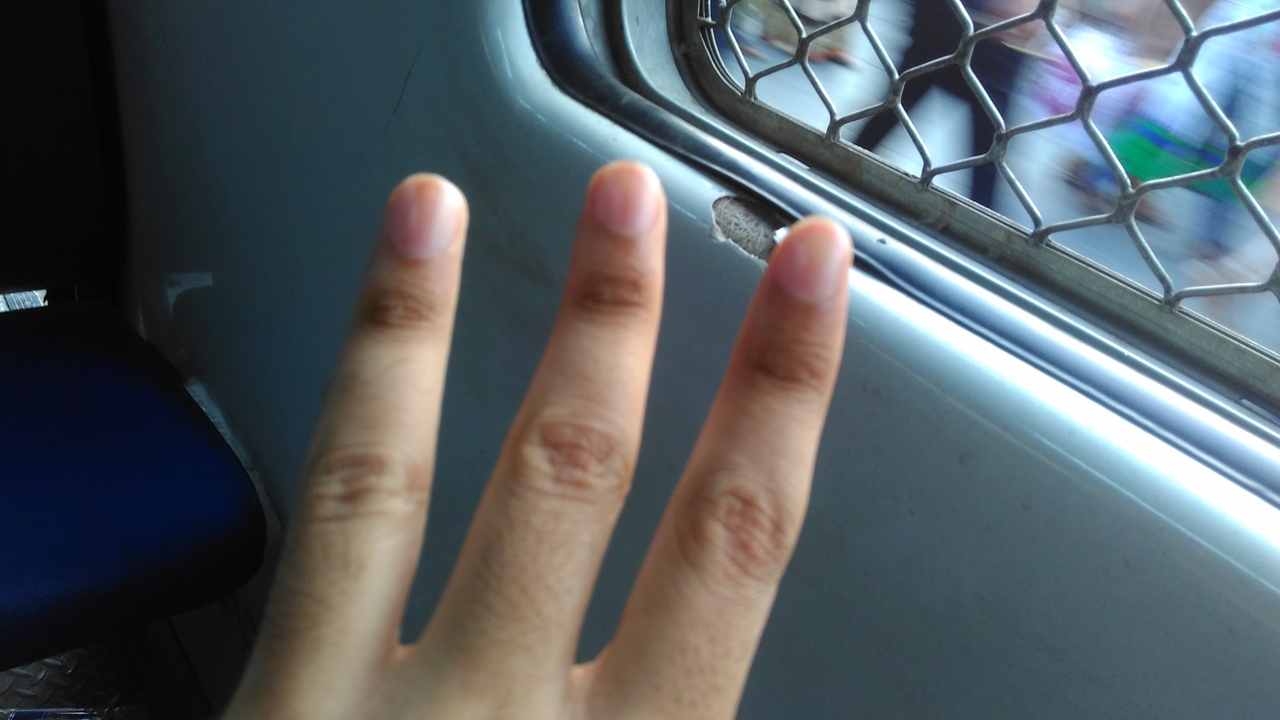fingertip: (370, 168, 472, 250), (770, 208, 860, 294), (572, 156, 666, 236)
